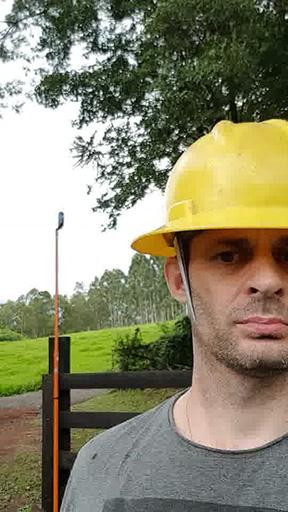Vara_Manobra: (51, 231, 61, 512)
